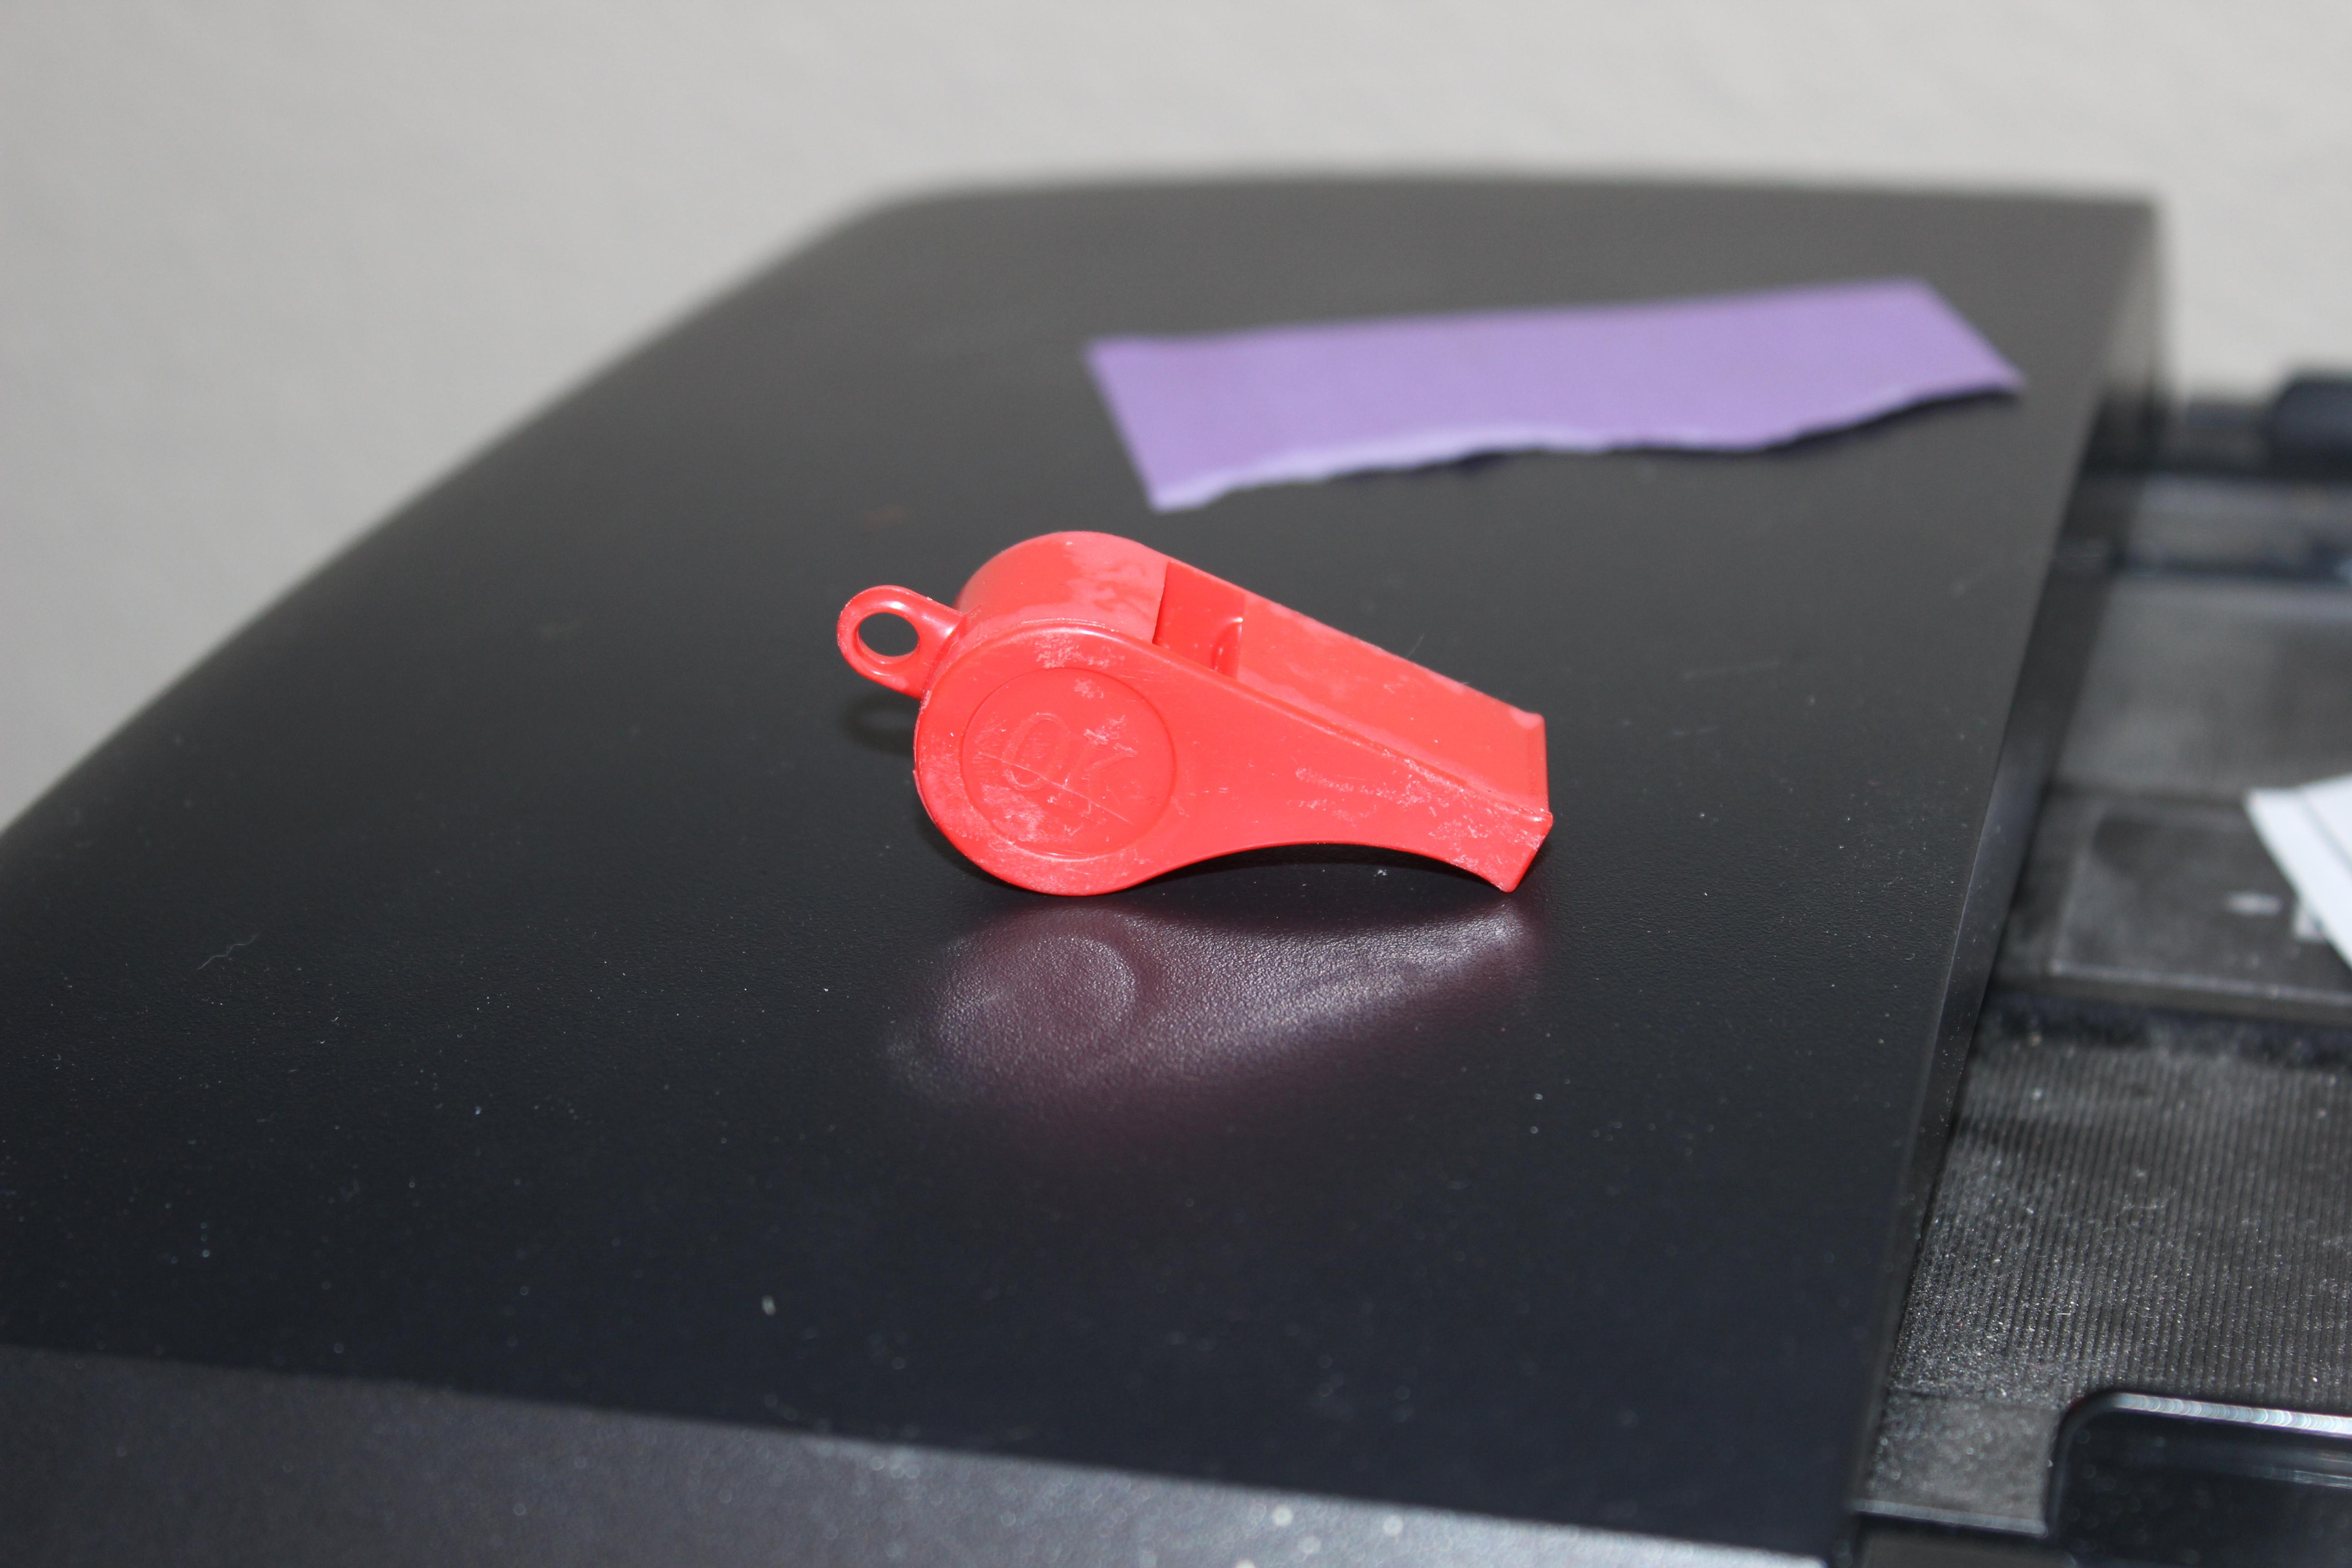redWhistle: (796, 478, 1615, 957)
